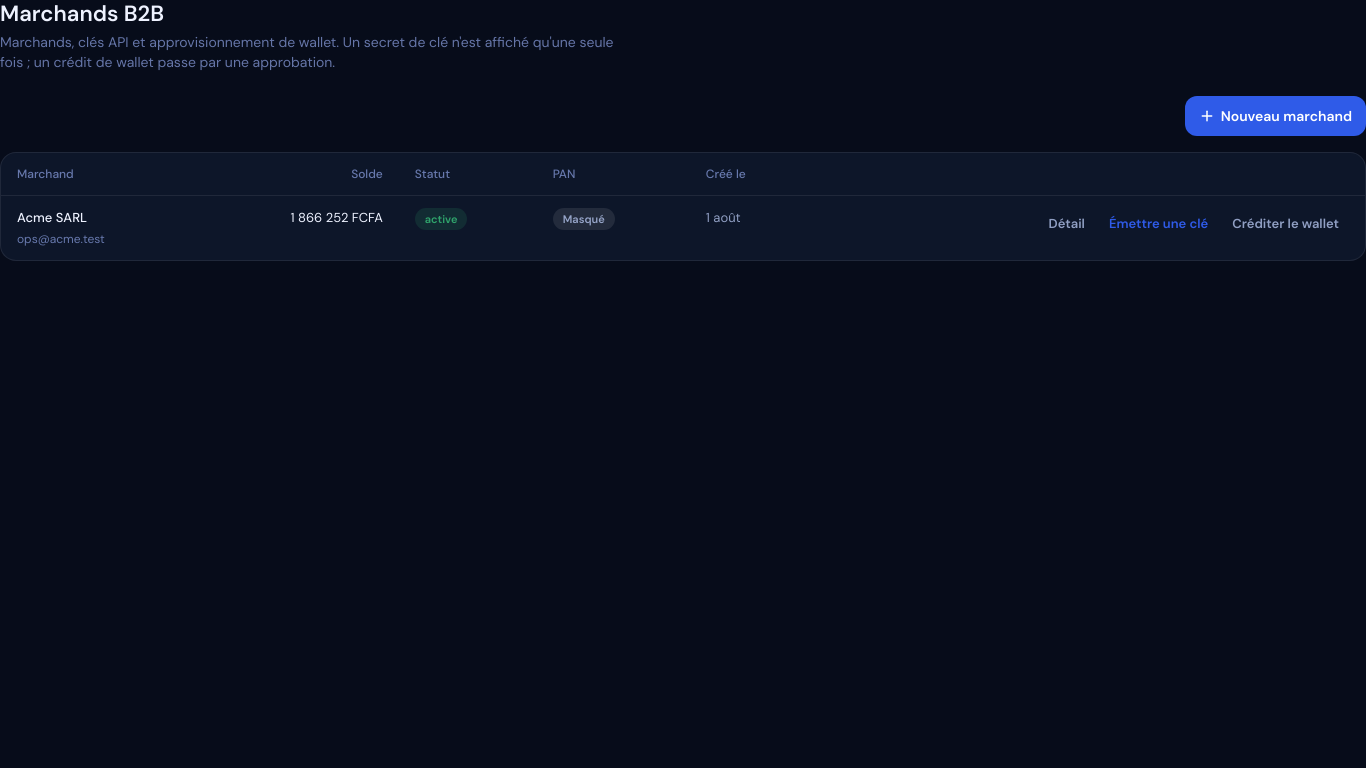
Scenario: MerchantsPage — balance, key listing, revoke, secrets › crediting a wallet is maker-checker: a 202 shows 'en attente d'approbation'
Click the button "Créditer le wallet": (1286, 224) [1222,208,1349,240]
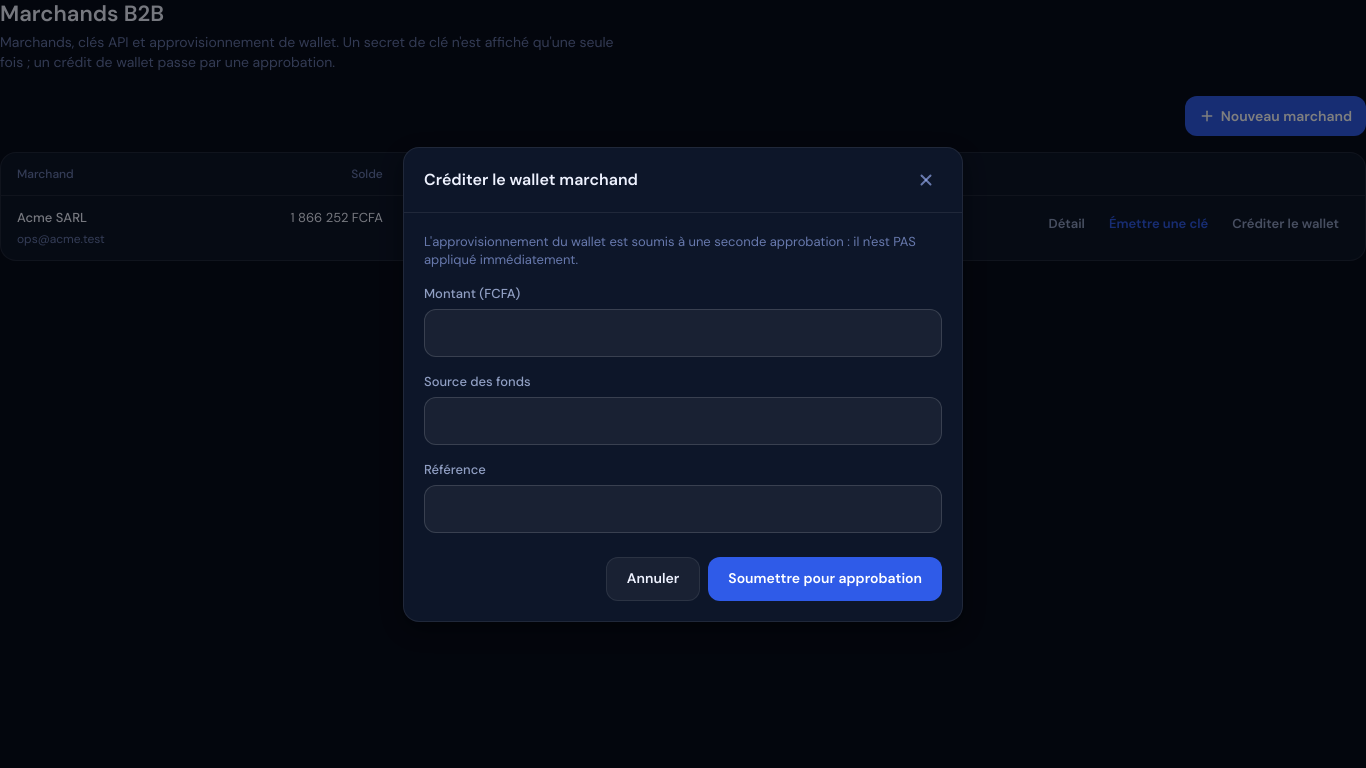
In the field labelled "Montant (FCFA)": (683, 332) [424,308,942,356], type "5000"
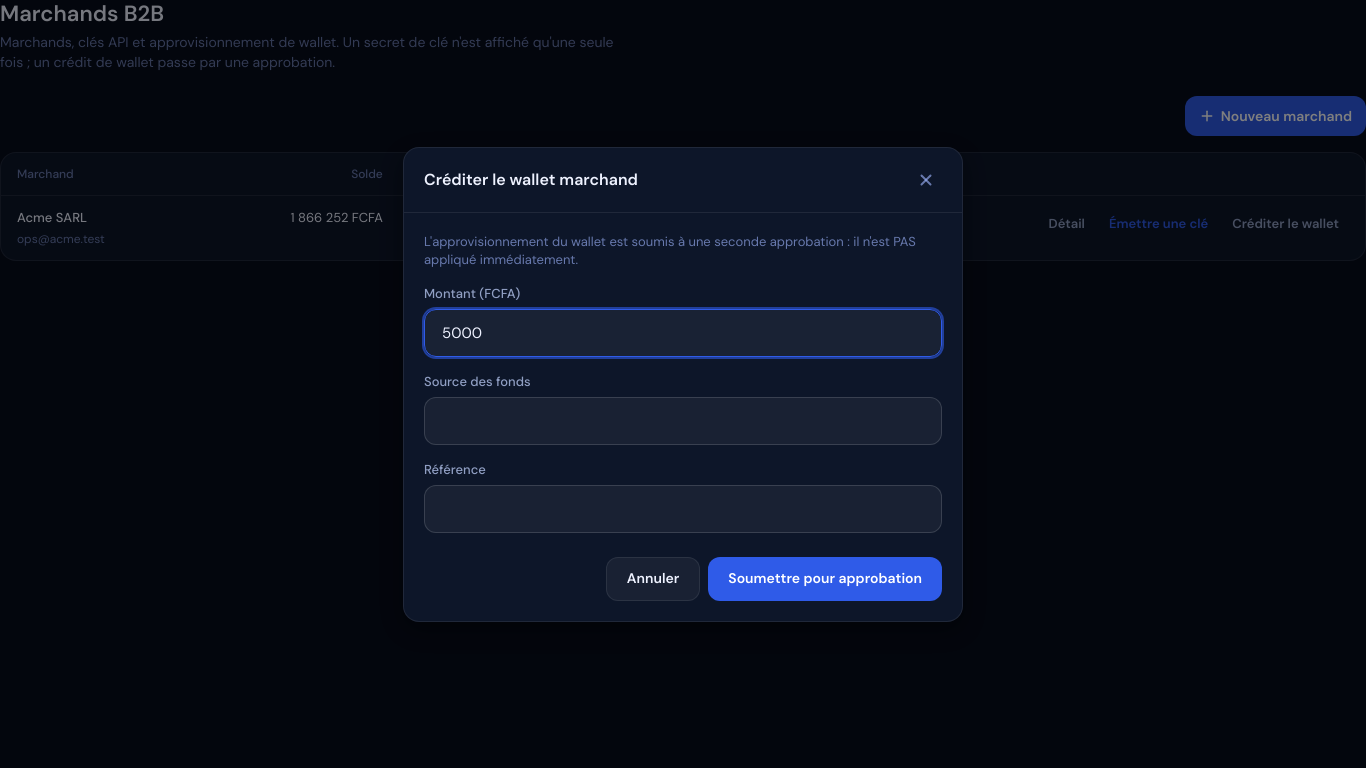
In the field labelled "Source des fonds": (683, 420) [424,396,942,444], type "banque"
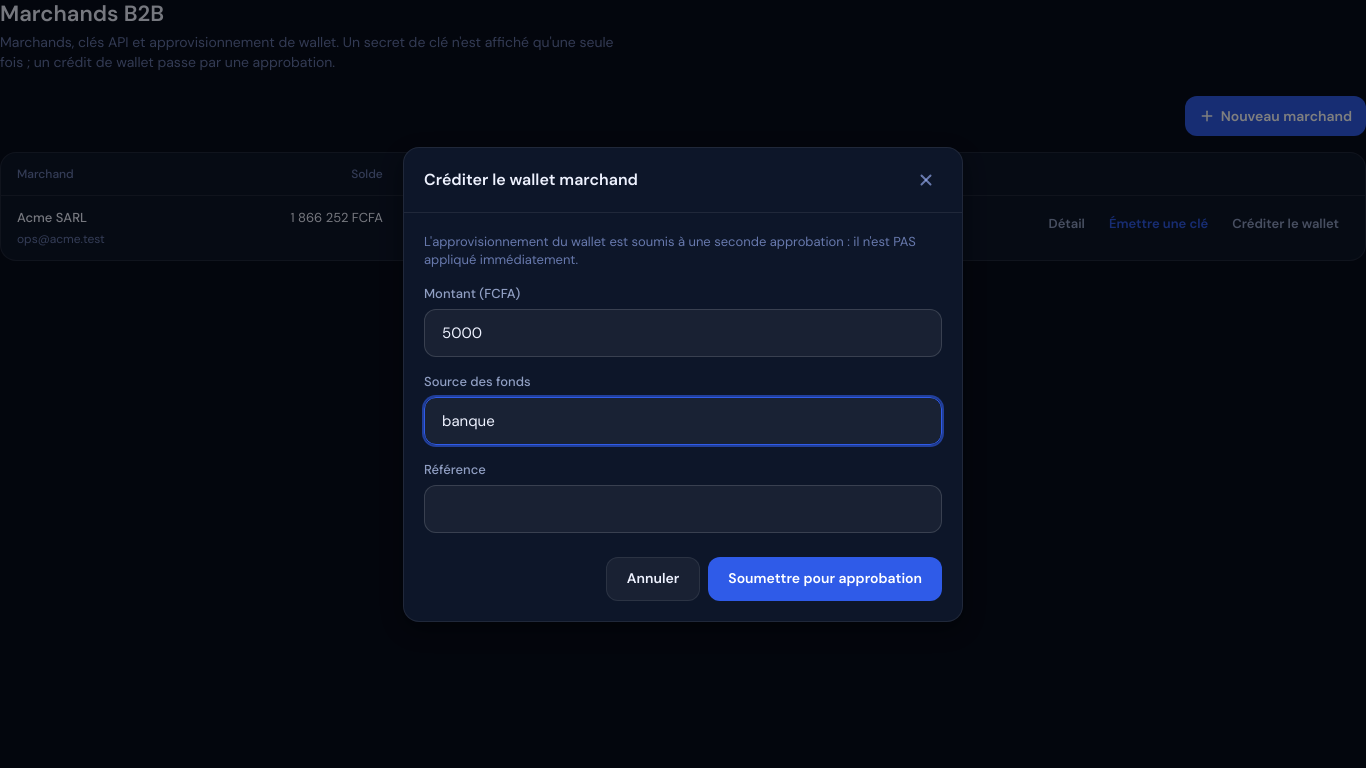
In the field labelled "Référence": (683, 508) [424,484,942,532], type "REF-1"
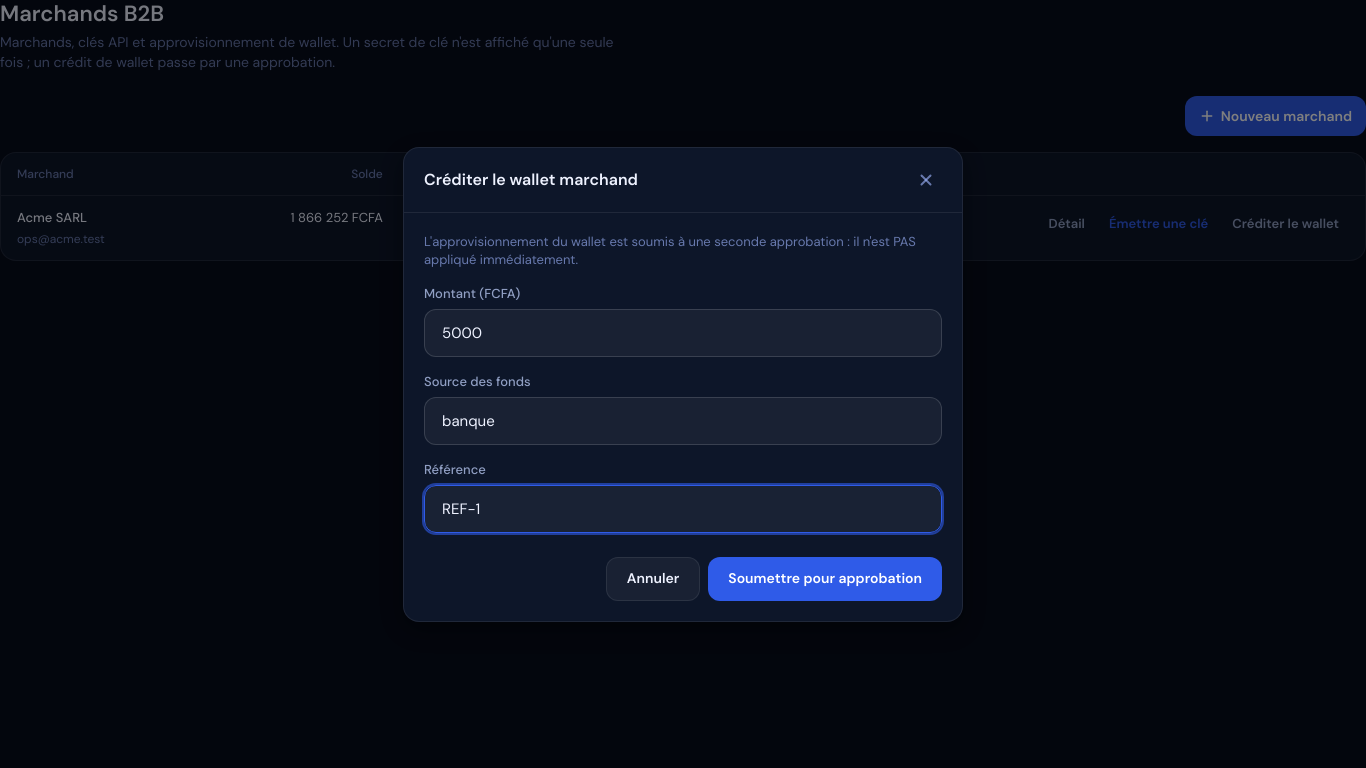
Click the button "Soumettre pour approbation": (825, 578) [708,556,942,600]
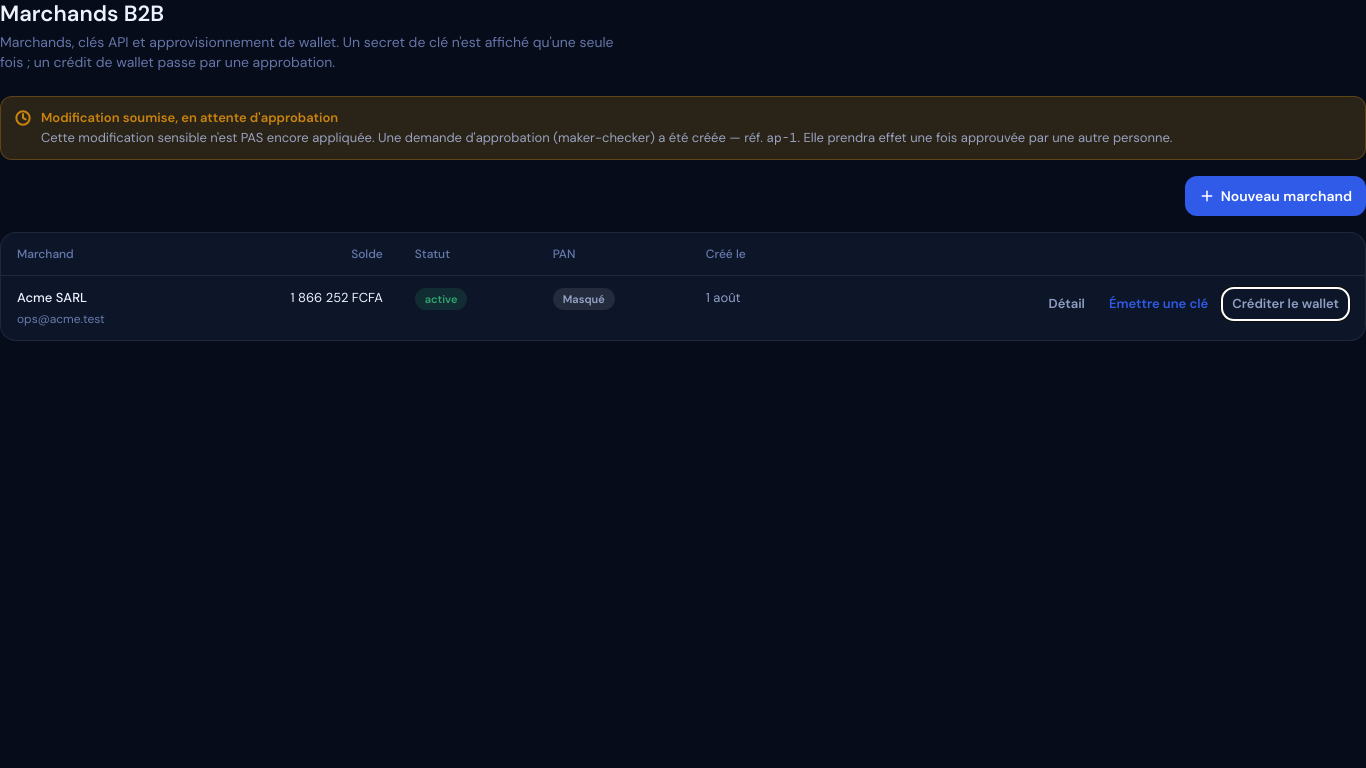
Result: the text "Modification soumise, en attente d'approbation" is shown at [41,109,338,126]
Result: the text "n'est PAS encore appliquée" is shown at [41,129,726,146]
